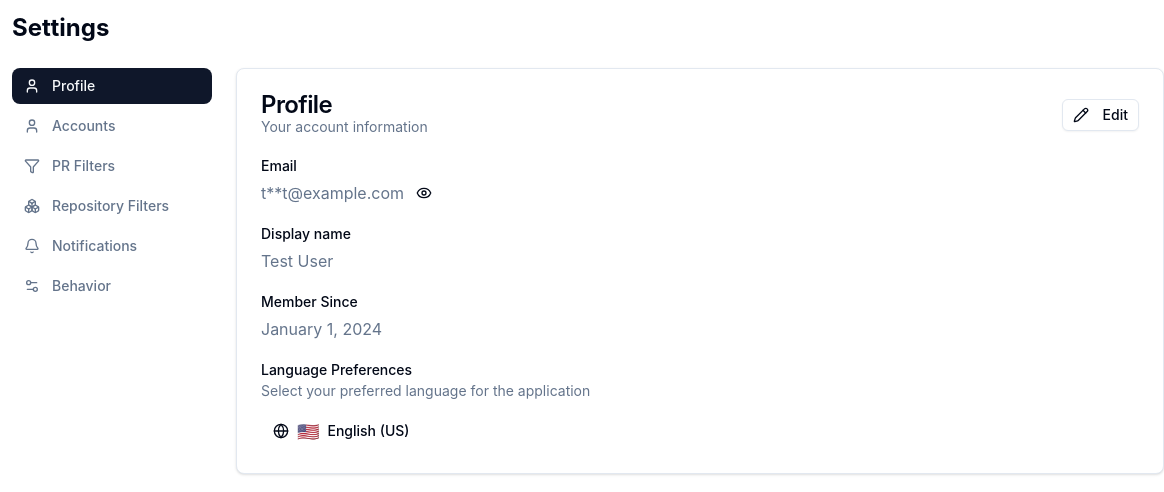
Settings › Profile Settings › shows email when eye button is clicked
Click the button titled "Show email". click: click(424, 193)
box: [412, 181, 436, 205]
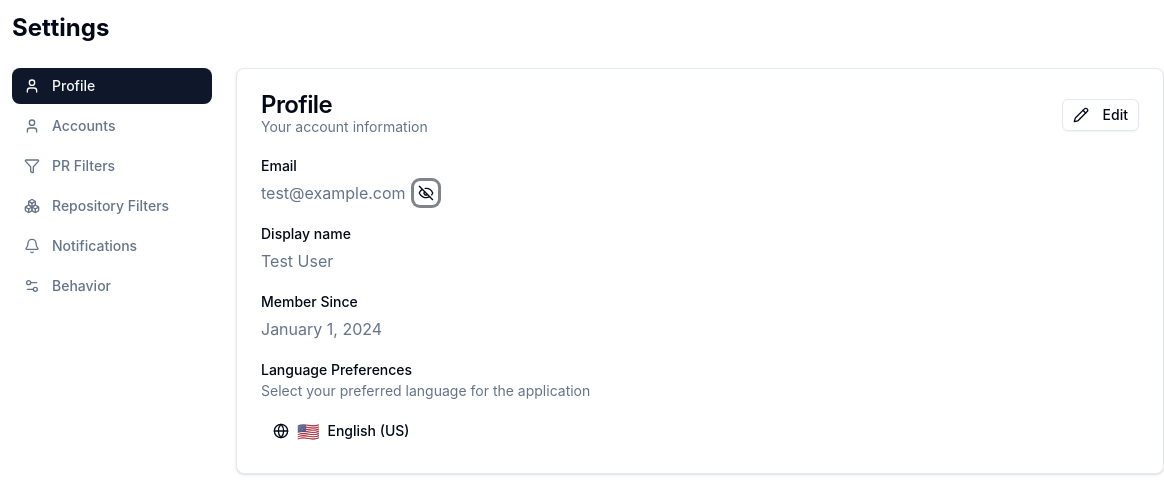
Expected: the text "test@example.com" is shown, [261, 181, 406, 205]
